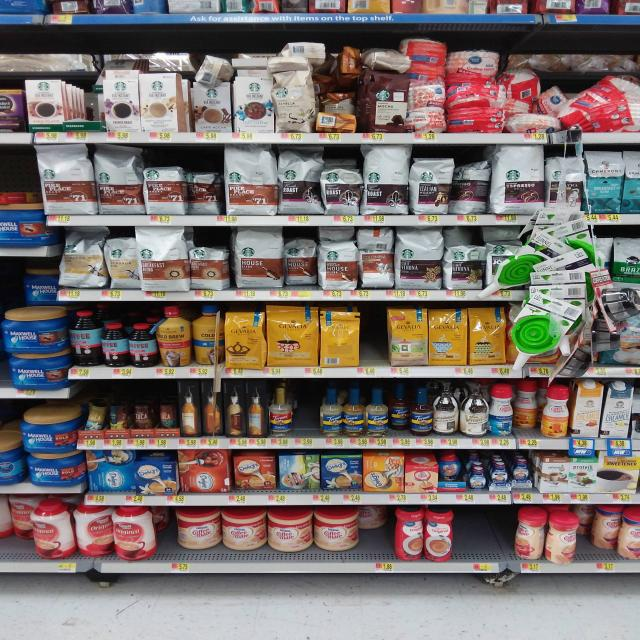void: (459, 506, 511, 560), (364, 308, 386, 379), (297, 387, 316, 440)
